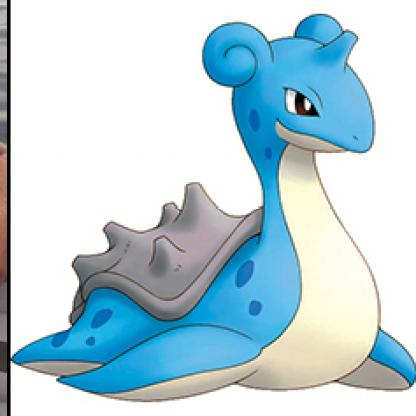Lapras: (14, 11, 416, 405)
